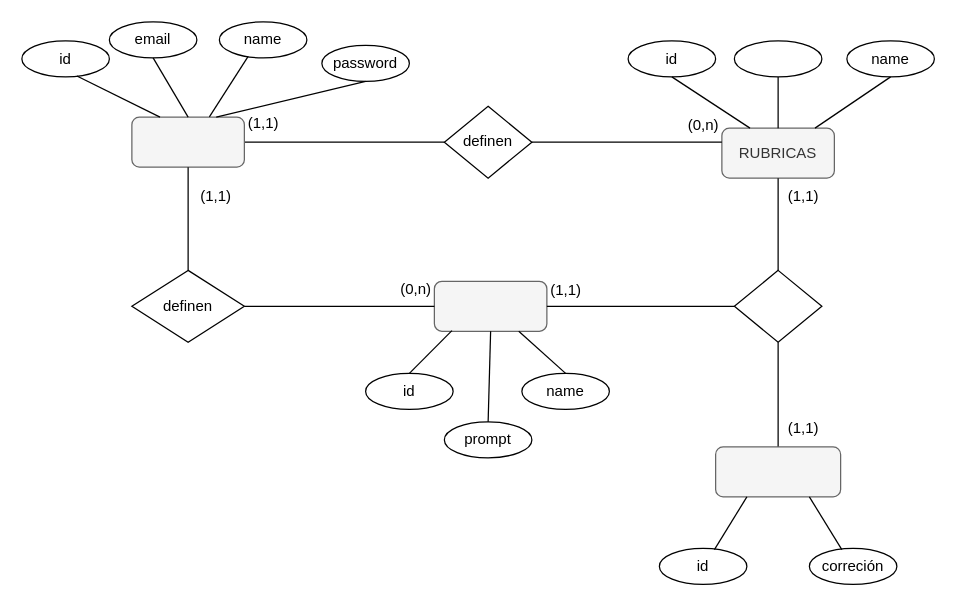
Some shapes in this 956 by 616 pixel diagram are drawn without their labels. The box of each missing label's shape, as (x1, y1, x2, y2) in pixels:
contenido: (733, 40, 822, 77)
CORRECIONES: (714, 446, 841, 497)
generan: (733, 269, 822, 342)
PROMPTS: (433, 280, 547, 331)
USUARIOS: (131, 116, 244, 167)
